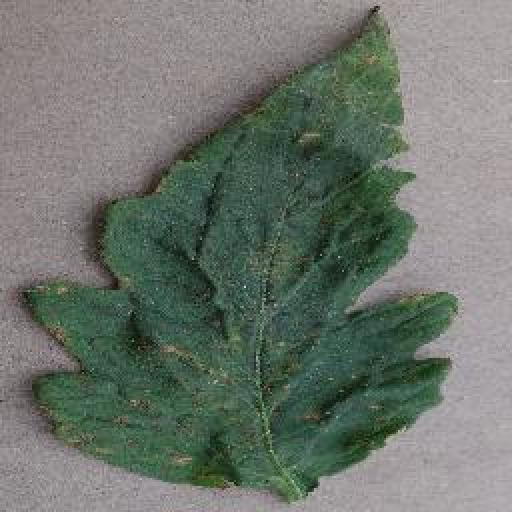Bacterial Spot: (14, 1, 468, 505)
